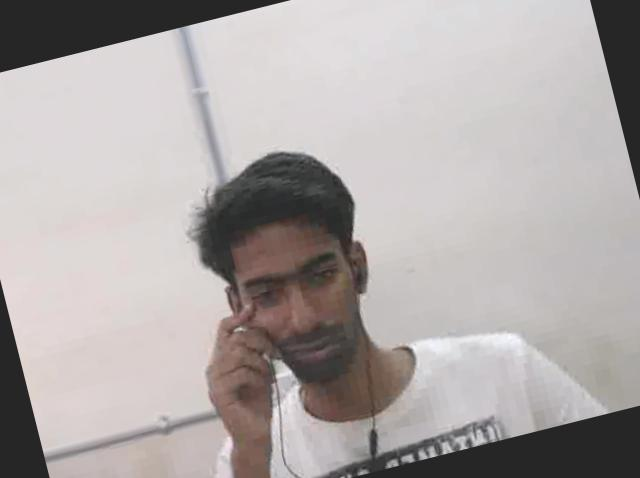bosan: (227, 213, 376, 386)
